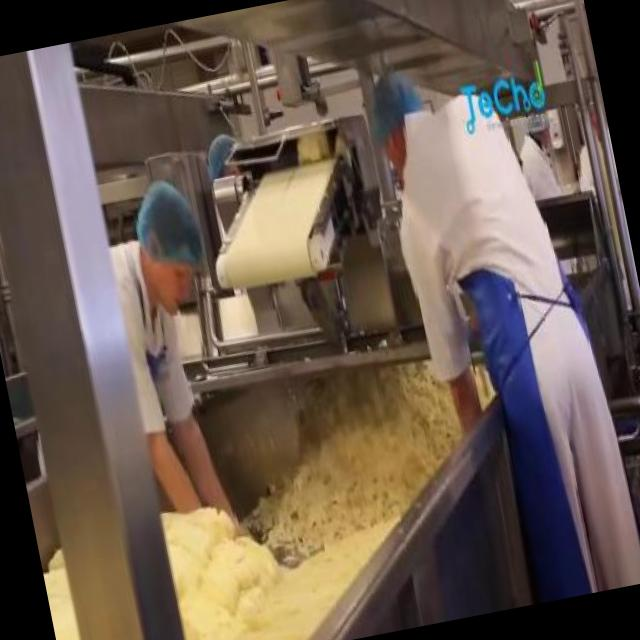hairnet: (131, 174, 206, 276), (362, 66, 428, 144), (203, 126, 250, 176)
